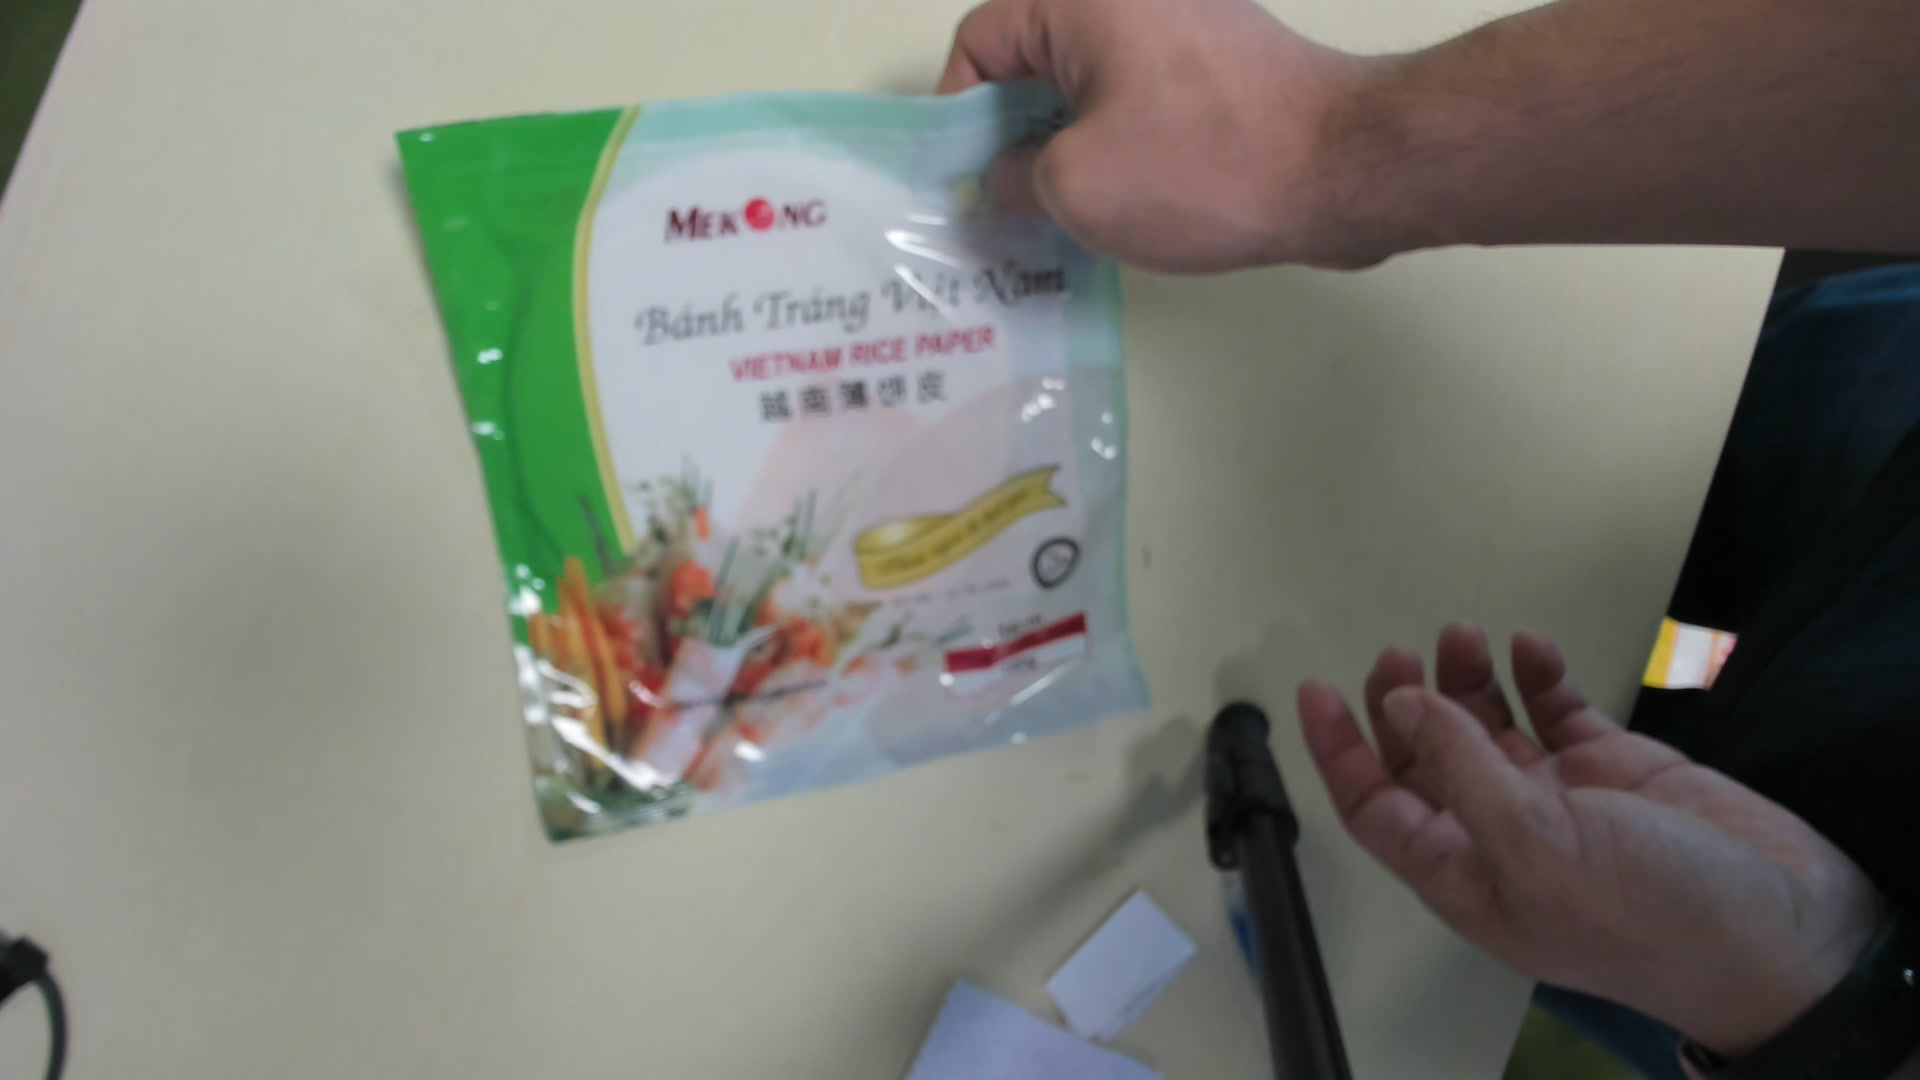InstantMeals_300_399g_NonHalal_NonHealthy: (396, 76, 1162, 870)
